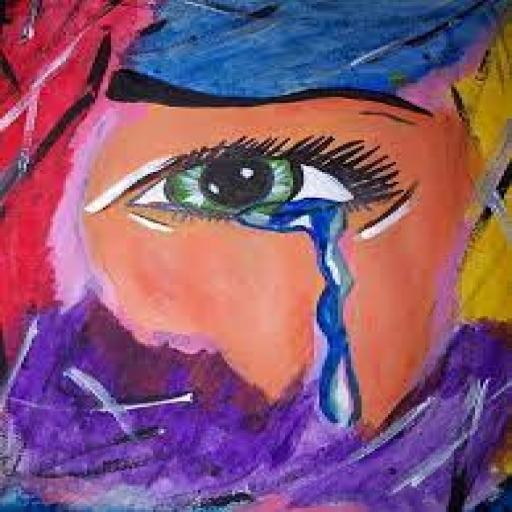person: (8, 0, 512, 497)
